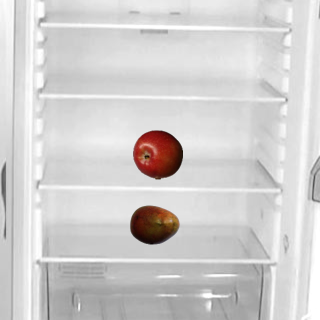Apple Braeburn: (132, 129, 182, 179)
Mango Red: (129, 199, 179, 249)
